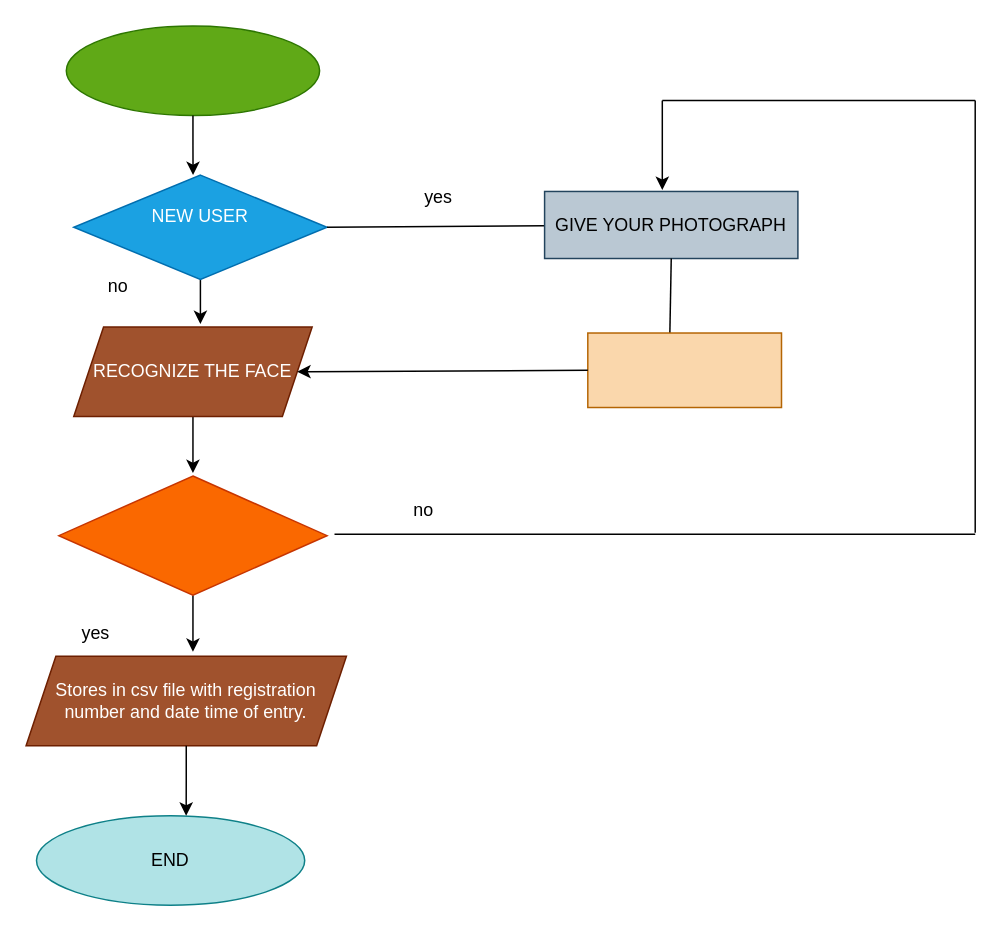
Some shapes in this 1003 by 931 pixel diagram are drawn without their labels. The shapes that lost their labels are listed below. From the top down, each one's box as (x1, y1, x2, y2) in pixels, then its label:
(65, 25, 320, 115): START
(586, 332, 782, 408): STORE THE FACE DATA IN FOLDER ON YOUR NAME
(57, 475, 327, 595): FACE RECOGNIZED
